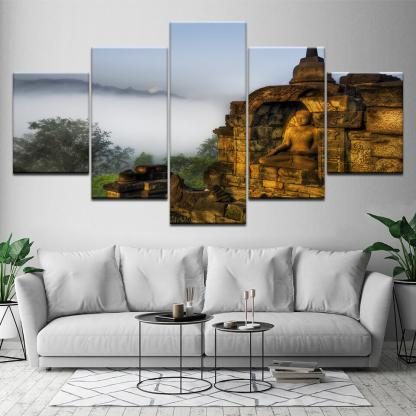meja: (130, 312, 214, 392), (216, 319, 272, 395)
sova: (23, 249, 386, 376)
tanaman: (375, 213, 416, 359), (2, 239, 27, 361)
